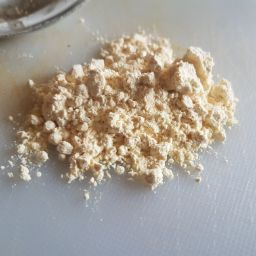Gram/ Flour: (44, 20, 244, 197), (4, 63, 217, 199), (81, 88, 204, 152)
